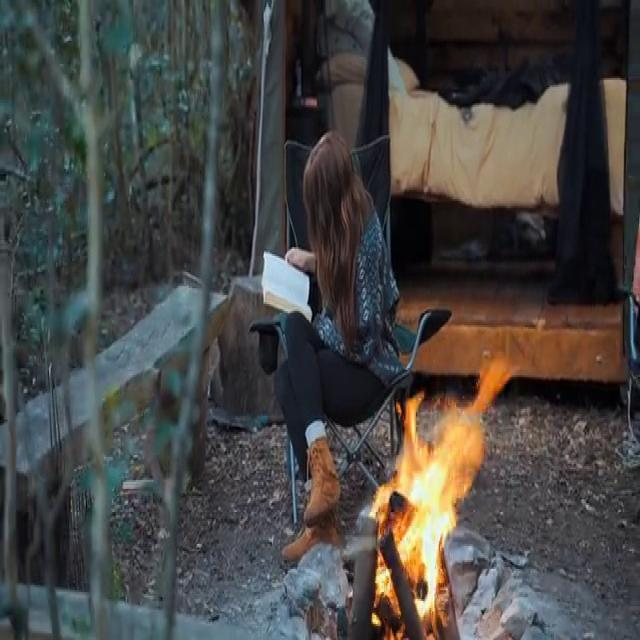Fire: (369, 378, 498, 628)
